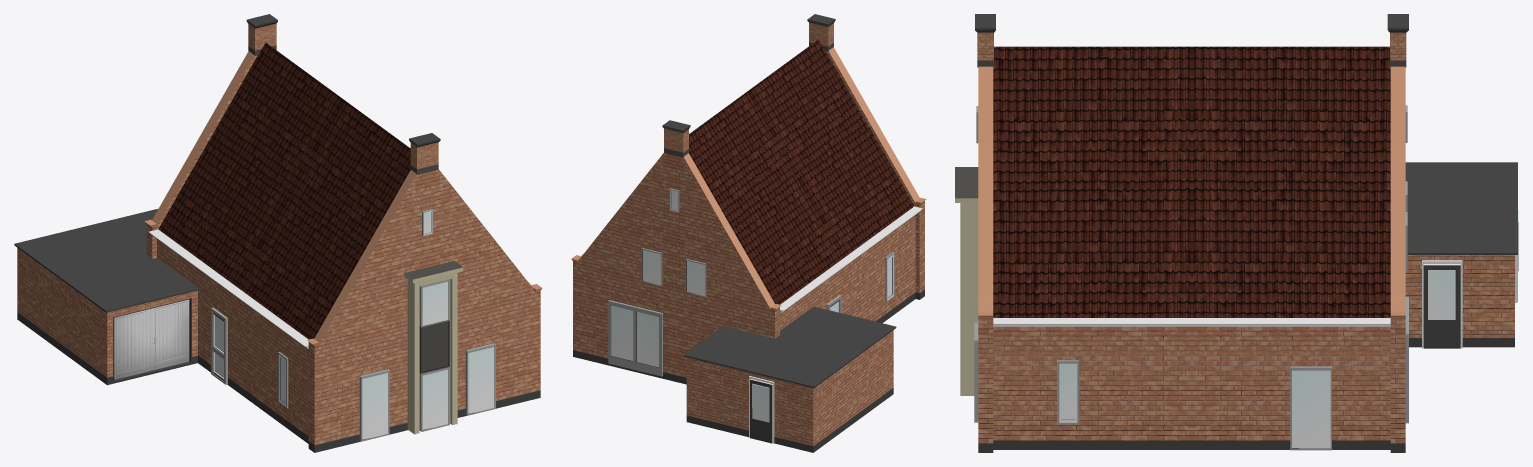
The model's file is Estrik 8+10.fbx.
3 views of the same model, side by side, from view 1: azimuth 30°, elevation 25°; view 2: azimuth 150°, elevation 25°; view 3: azimuth 270°, elevation 25° (orthographic). The views are drawn at different scales.
Visible parts, largest first — view 1: Woning_Estrik_8_10; view 2: Woning_Estrik_8_10; view 3: Woning_Estrik_8_10.
Boxes of the visible parts, left/top/right/bottom form: Woning_Estrik_8_10: left=14, top=14, right=542, bottom=452; Woning_Estrik_8_10: left=571, top=14, right=926, bottom=452; Woning_Estrik_8_10: left=955, top=14, right=1518, bottom=452.
Size of the model in its own units: 12.06 by 10.32 by 14.58.
Materials: 1 (1 with a texture image).
